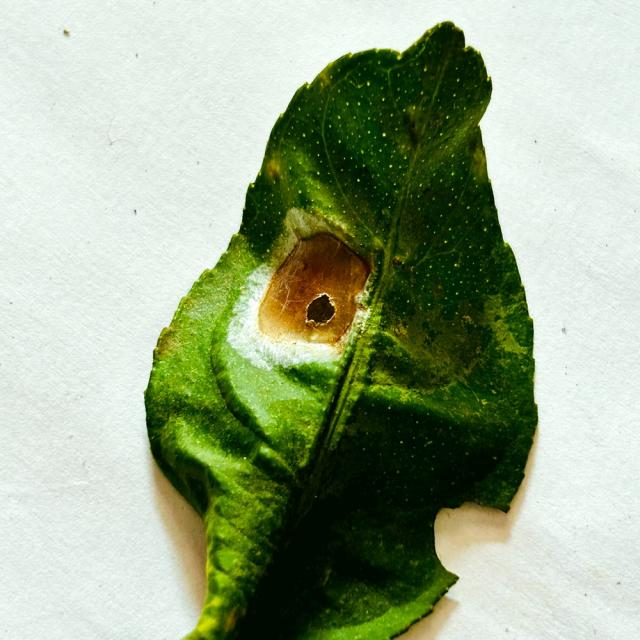Deficiency Leaf: (259, 232, 370, 349), (435, 503, 515, 577)
Lemon: (145, 22, 537, 638)
